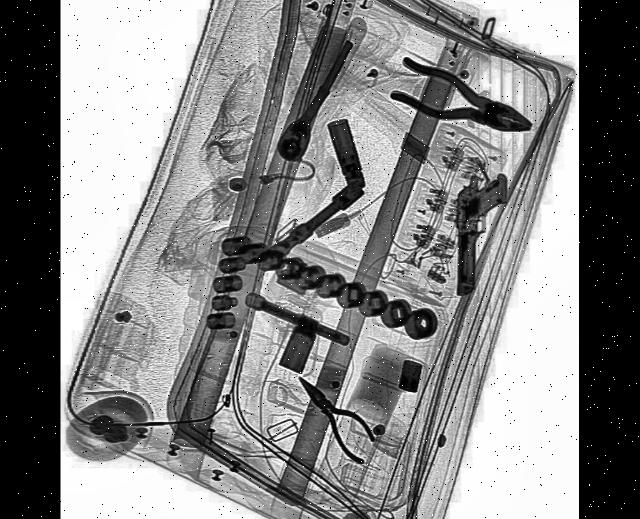Gun: (456, 170, 509, 296)
Pliers: (390, 48, 536, 152), (288, 357, 380, 468)
